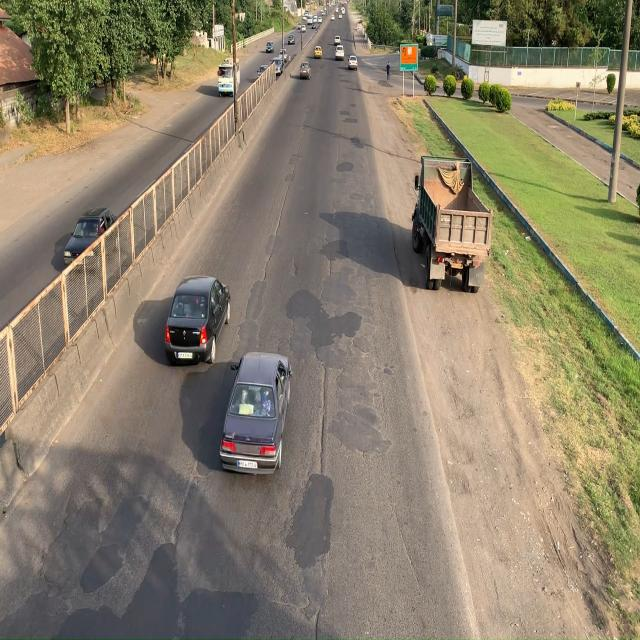Truck: (411, 150, 494, 294)
cars: (220, 352, 291, 472), (164, 274, 230, 367), (62, 207, 122, 274)
